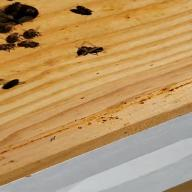Bee: (74, 45, 110, 57), (22, 28, 43, 40), (0, 42, 18, 54)
